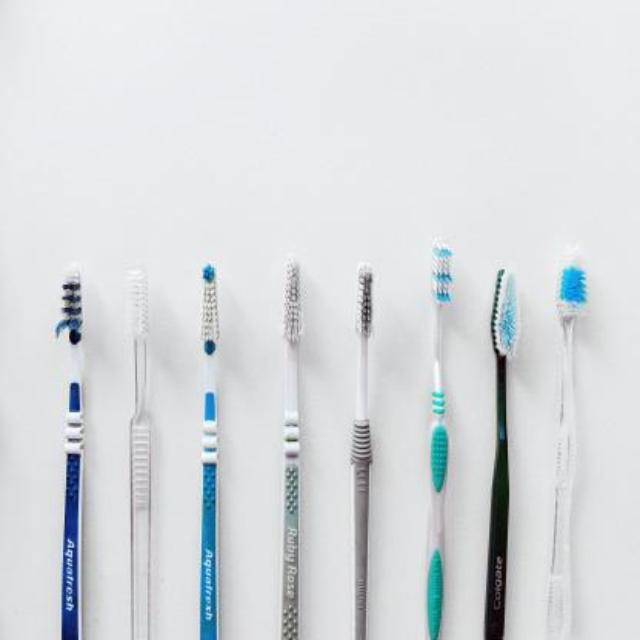toothbrush: (480, 260, 524, 640), (122, 246, 164, 640), (548, 232, 588, 638), (273, 246, 309, 640), (194, 252, 230, 638), (53, 264, 89, 640), (422, 230, 454, 640), (347, 248, 377, 640)
